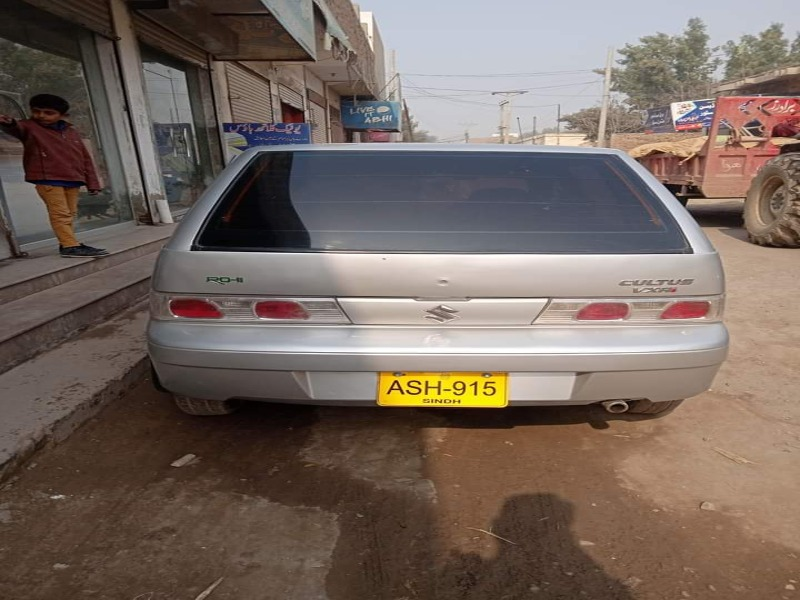License Plate: (376, 368, 516, 410)
